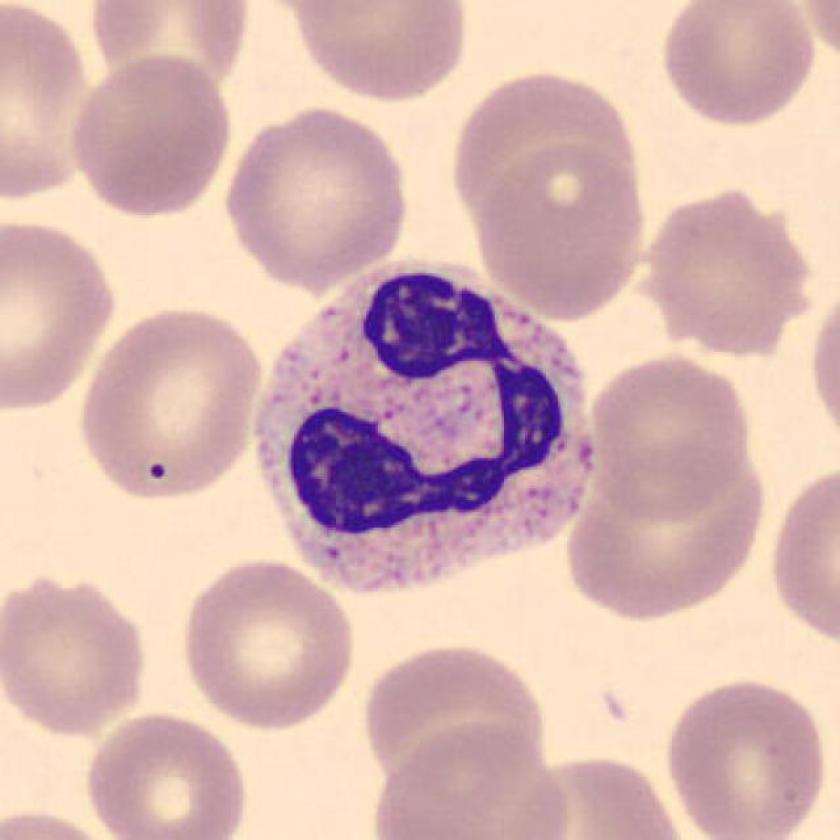neutrophil: (257, 261, 595, 588)
